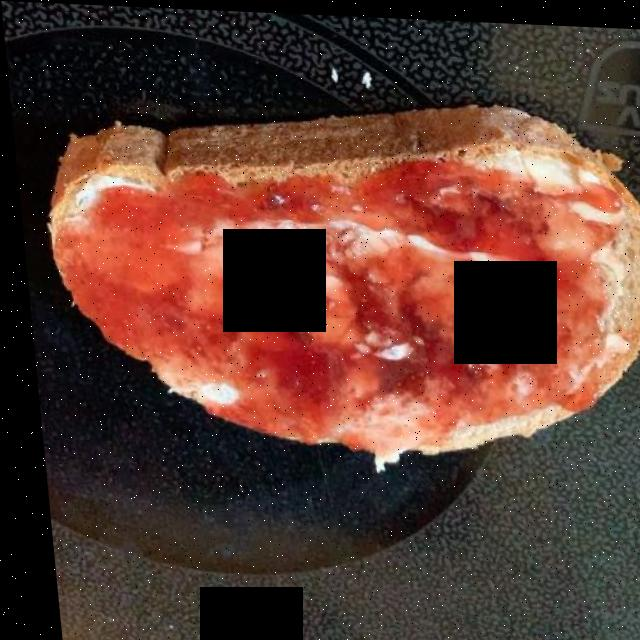bread-white: (50, 109, 640, 452)
butter: (53, 144, 615, 436)
jam: (49, 113, 640, 454)
